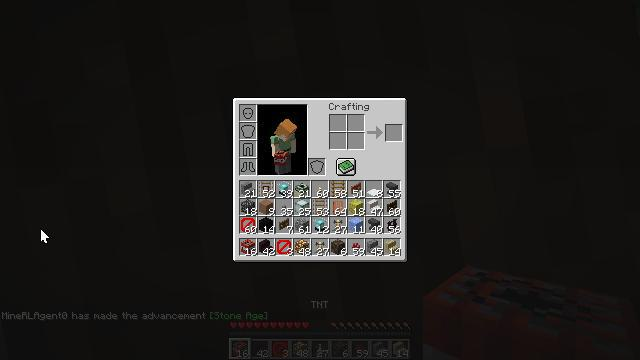cursor: (228, 40, 244, 50)
